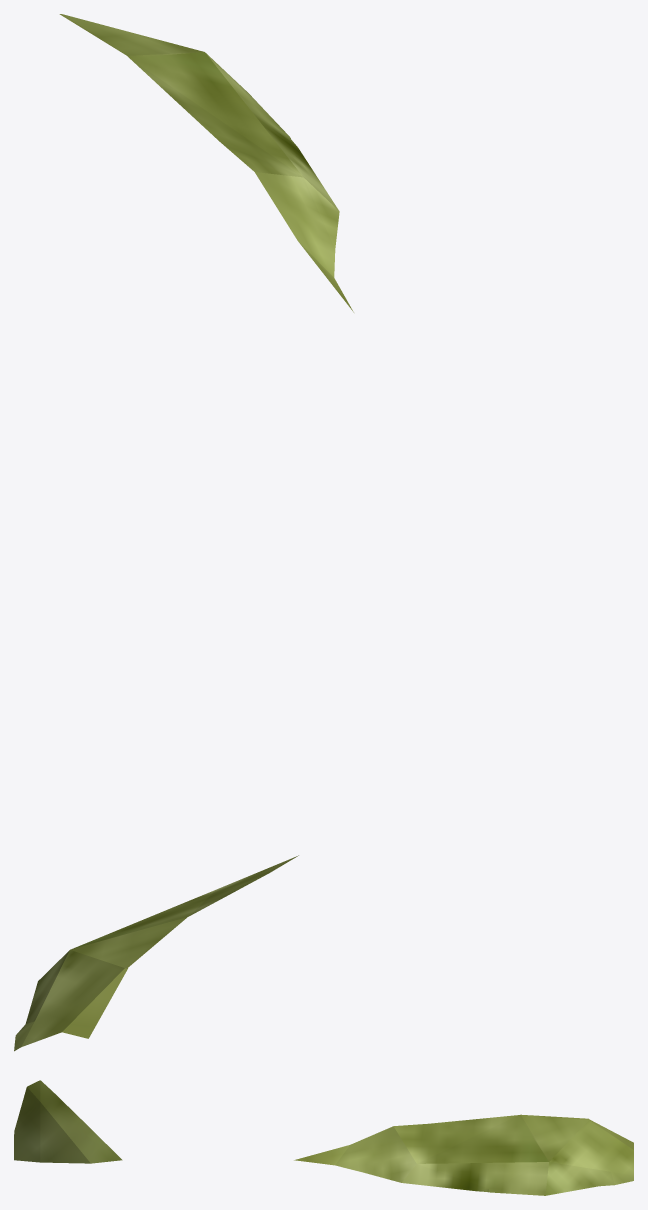
3 views of the same model, one above another, from view 1: azimuth 30°, elevation 25°; view 2: azimuth 150°, elevation 25°; view 3: azimuth 270°, elevation 25° (orthographic). The views are drawn at different scales.
Bounding box in the file's own units: 0.1119 × 0.1173 × 0.8218.
Materials: 1 (1 with a texture image).
